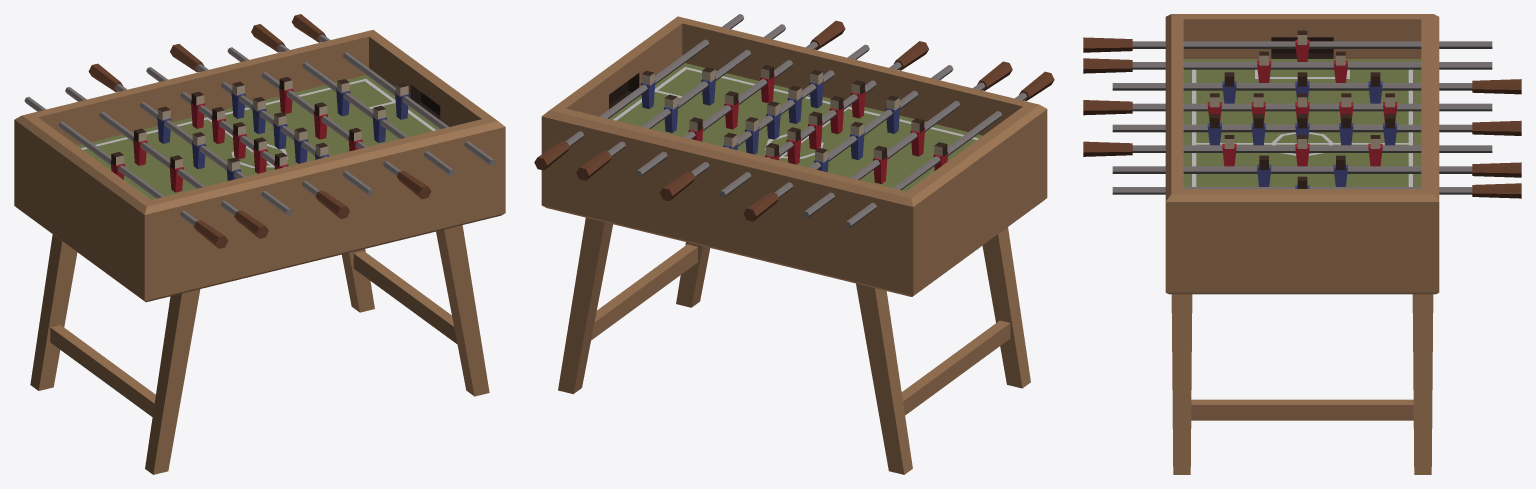
File: taca-taca-616f6a.glb
The picture shows the model from 3 angles, left to right: view 1: azimuth 30°, elevation 25°; view 2: azimuth 150°, elevation 25°; view 3: azimuth 270°, elevation 25°; orthographic projection. The views are drawn at different scales.
Visible parts, largest first — view 1: table, rod-5-mesh, rod-4-mesh, rod-3-mesh, rod-6-mesh, rod-2-mesh, rod-7-mesh, rod-8-mesh, rod-1-mesh; view 2: table, rod-4-mesh, rod-5-mesh, rod-6-mesh, rod-3-mesh, rod-2-mesh, rod-7-mesh, rod-8-mesh, rod-1-mesh; view 3: table, rod-5-mesh, rod-4-mesh, rod-6-mesh, rod-3-mesh, rod-2-mesh, rod-7-mesh, rod-1-mesh, rod-8-mesh.
Boxes of the visible parts, x1,y1,x2,y2 form: table: [14, 30, 505, 474]; rod-5-mesh: [170, 44, 373, 195]; rod-4-mesh: [146, 67, 349, 218]; rod-3-mesh: [88, 63, 292, 215]; rod-6-mesh: [227, 47, 431, 199]; rod-2-mesh: [65, 87, 268, 238]; rod-7-mesh: [251, 24, 454, 175]; rod-8-mesh: [292, 14, 495, 165]; rod-1-mesh: [24, 97, 227, 248]; table: [541, 16, 1047, 474]; rod-4-mesh: [719, 41, 928, 197]; rod-5-mesh: [660, 44, 869, 201]; rod-6-mesh: [635, 20, 845, 177]; rod-3-mesh: [743, 65, 953, 221]; rod-2-mesh: [803, 61, 1012, 217]; rod-7-mesh: [576, 24, 785, 180]; rod-8-mesh: [534, 14, 743, 170]; rod-1-mesh: [844, 71, 1054, 228]; table: [1165, 14, 1439, 474]; rod-5-mesh: [1112, 114, 1521, 145]; rod-4-mesh: [1083, 93, 1492, 122]; rod-6-mesh: [1083, 135, 1492, 166]; rod-3-mesh: [1112, 72, 1521, 103]; rod-2-mesh: [1083, 51, 1492, 82]; rod-7-mesh: [1112, 155, 1521, 186]; rod-1-mesh: [1083, 30, 1492, 61]; rod-8-mesh: [1112, 176, 1521, 198].
Bounding box in the file's own units: 1.2 × 0.86 × 1.2.
